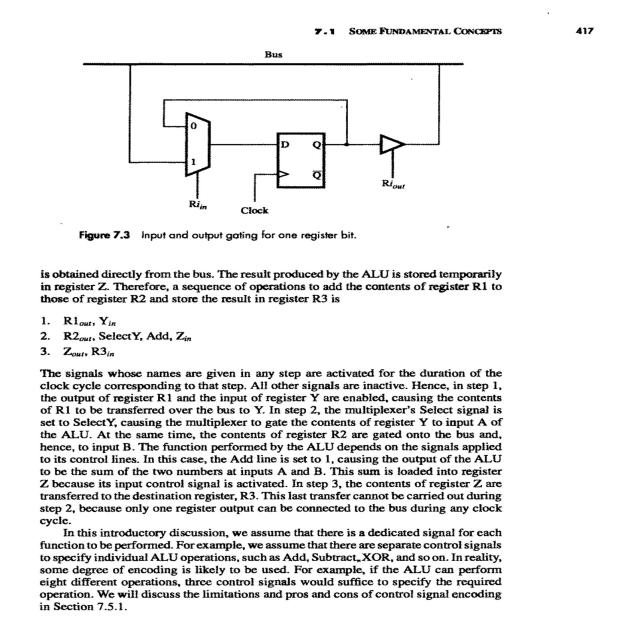diagram: (0, 38, 539, 256)
